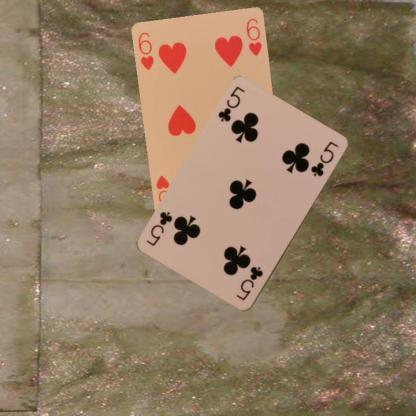5c: (216, 84, 246, 124), (233, 264, 264, 302)
6h: (136, 30, 155, 72)
